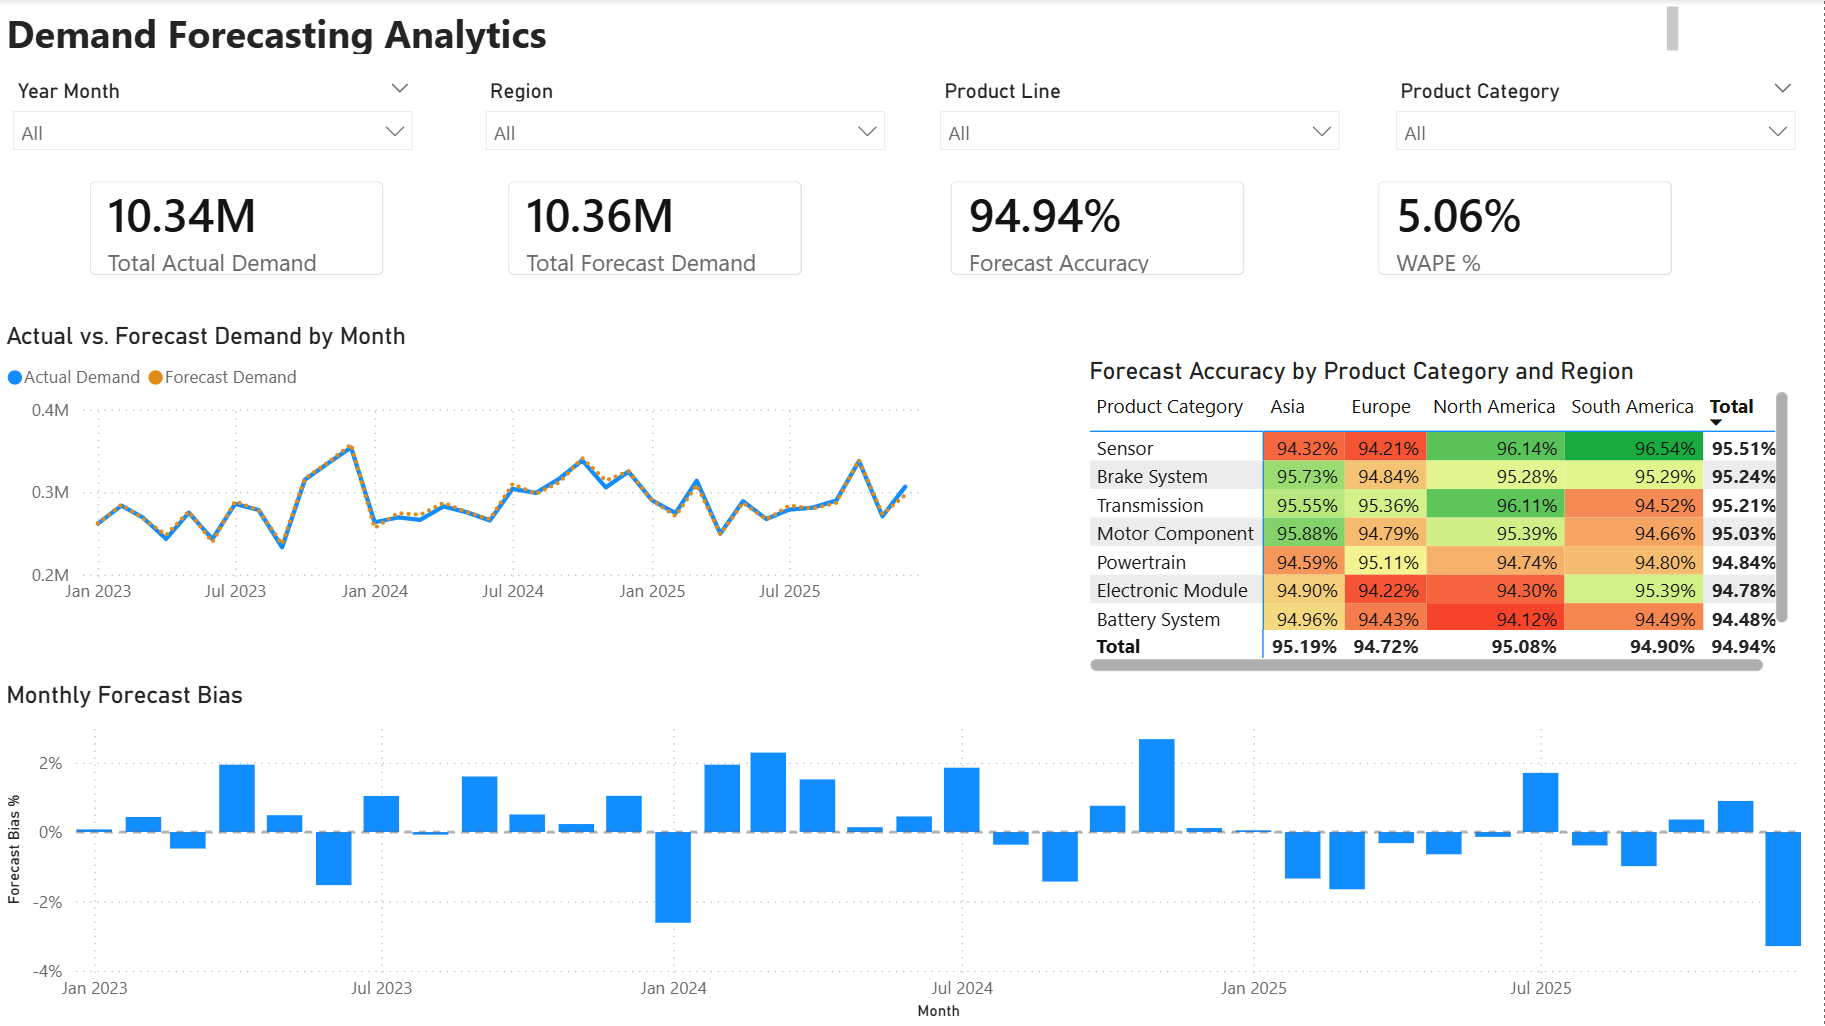

What the dashboard file says about the page in this screenshot:
{"tool":"powerbi","page":{"name":"Demand Forecasting Analytics","canvas":[1280,720],"ordinal":2},"visuals":[{"type":"slicer","fields":{"Values":["Calendar.Year Month"]},"box":[0,50,300,65],"z":0},{"type":"slicer","fields":{"Values":["regions.Region"]},"box":[331.4,50,300,65.7],"z":1000},{"type":"slicer","fields":{"Values":["products.Product_Line"]},"box":[650,50,300,65.7],"z":2000},{"type":"slicer","fields":{"Values":["products.Product_Category"]},"box":[970,50,300,65.7],"z":3000},{"type":"cardVisual","fields":{"Data":["sales_orders.Total Actual Demand"]},"box":[46,110,240,100],"z":4000},{"type":"cardVisual","fields":{"Data":["sales_orders.Total Forecast Demand"]},"box":[340,110,240,100],"z":5000},{"type":"cardVisual","fields":{"Data":["sales_orders.Forecast Accuracy"]},"box":[650,110,240,100],"z":6000},{"type":"cardVisual","fields":{"Data":["demand_forecast.WAPE %"]},"box":[950,110,240,100],"z":7000},{"type":"lineChart","title":"Actual vs. Forecast Demand by Month","fields":{"Category":["Calendar.Month Start"],"Y":["Sum(demand_forecast.Actual_Demand)","Sum(demand_forecast.Forecast_Demand)"]},"box":[0,225.9,662,216.1],"z":8000},{"type":"pivotTable","title":"Forecast Accuracy by Product Category and Region ","fields":{"Columns":["regions.Region"],"Rows":["products.Product_Category"],"Values":["sales_orders.Forecast Accuracy"]},"box":[759.4,250.7,500.1,226.2],"z":9000},{"type":"clusteredColumnChart","title":"Monthly Forecast Bias","fields":{"Category":["Calendar.Month Start"],"Y":["sales_orders.Forecast Bias %"]},"box":[0,477.5,1280,242.5],"z":10000},{"type":"textbox","box":[0,0,1182.2,43.2],"z":11000}]}

Visuals, with their boxes in screenshot pixels (x1, y1, x2, y2), scaled from the page's 1280x720 canvas onto the 1825x1026 screenshot:
slicer - Calendar.Year Month: detection(0, 71, 428, 164)
slicer - regions.Region: detection(473, 71, 900, 165)
slicer - products.Product_Line: detection(927, 71, 1354, 165)
slicer - products.Product_Category: detection(1383, 71, 1811, 165)
cardVisual - sales_orders.Total Actual Demand: detection(66, 157, 408, 299)
cardVisual - sales_orders.Total Forecast Demand: detection(485, 157, 827, 299)
cardVisual - sales_orders.Forecast Accuracy: detection(927, 157, 1269, 299)
cardVisual - demand_forecast.WAPE %: detection(1354, 157, 1697, 299)
"Actual vs. Forecast Demand by Month" lineChart: detection(0, 322, 944, 630)
"Forecast Accuracy by Product Category and Region " pivotTable: detection(1083, 357, 1796, 680)
"Monthly Forecast Bias" clusteredColumnChart: detection(0, 680, 1824, 1025)
textbox: detection(0, 0, 1686, 62)
